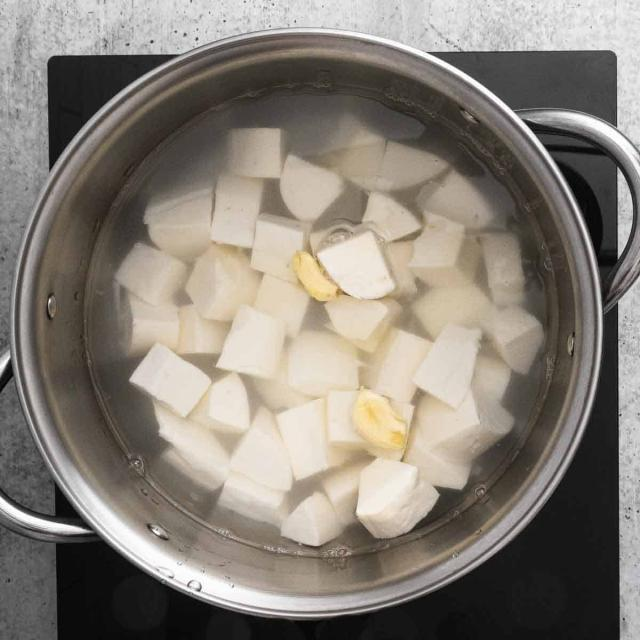yuca: (47, 92, 576, 560)
